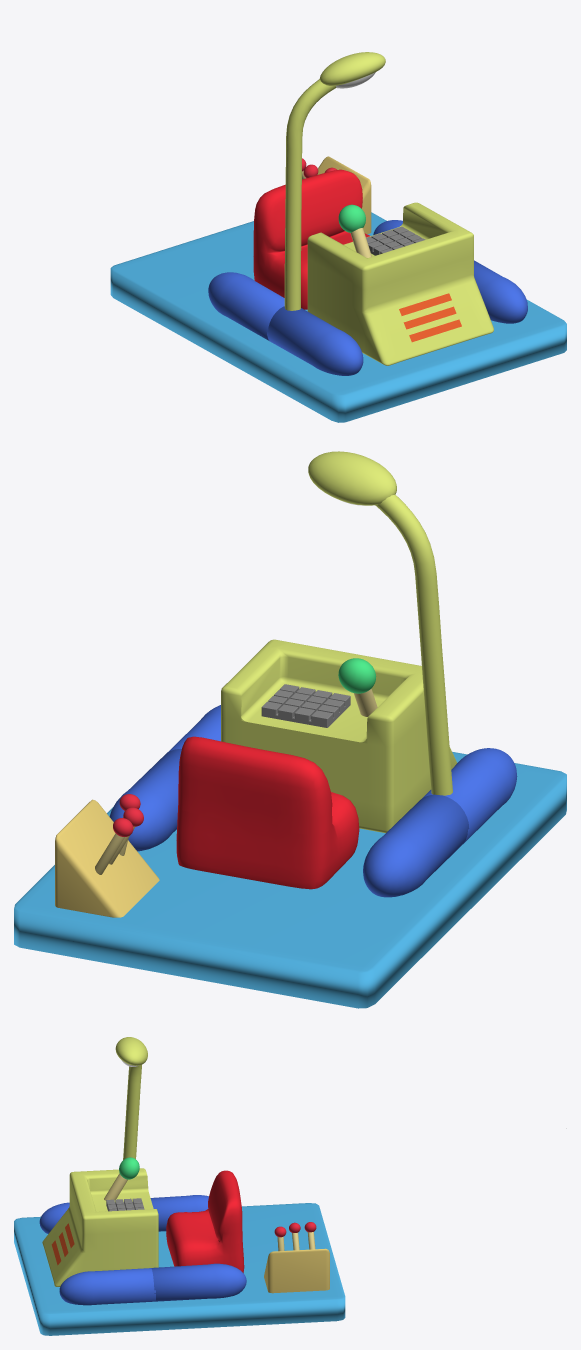
3 renders of one model, top to bottom at view 1: azimuth 30°, elevation 25°; view 2: azimuth 150°, elevation 25°; view 3: azimuth 270°, elevation 25°, orthographic. The views are drawn at different scales.
Visible parts, largest first — view 1: Cube, Cube.012, Sphere.132, Cube.025, BezierCurve.014, Sphere.133, Sphere.138, Cube.024, Cube.028, Sphere.134; view 2: Cube, Cube.012, Cube.025, Sphere.132, Cube.028, BezierCurve.014, Sphere.133, Sphere.138, Cube.024, Sphere.134; view 3: Cube, Cube.012, Sphere.133, Cube.025, Cube.028, Sphere.132, BezierCurve.014, Sphere.138, Cube.024.
Boxes of the visible parts, box(x1,y1,x2,y2) form: Cube: box(110, 212, 566, 422); Cube.012: box(307, 202, 493, 365); Sphere.132: box(208, 272, 363, 375); Cube.025: box(253, 169, 370, 309); BezierCurve.014: box(284, 79, 336, 310); Sphere.133: box(373, 220, 527, 323); Sphere.138: box(319, 52, 385, 88); Cube.024: box(366, 226, 425, 255); Cube.028: box(317, 156, 371, 234); Sphere.134: box(338, 204, 365, 232); Cube: box(14, 751, 566, 1008); Cube.012: box(221, 639, 456, 833); Cube.025: box(176, 736, 359, 889); Sphere.132: box(363, 748, 517, 897); Cube.028: box(55, 799, 159, 917); BezierCurve.014: box(375, 494, 452, 795); Sphere.133: box(109, 705, 220, 851); Sphere.138: box(308, 451, 396, 505); Cube.024: box(261, 684, 350, 727); Sphere.134: box(338, 658, 376, 693); Cube: box(14, 1203, 345, 1335); Cube.012: box(42, 1168, 158, 1286); Sphere.133: box(59, 1263, 246, 1305); Cube.025: box(166, 1170, 244, 1272); Cube.028: box(264, 1248, 329, 1293); Sphere.132: box(39, 1195, 208, 1233); BezierCurve.014: box(123, 1065, 141, 1159); Sphere.138: box(115, 1037, 147, 1066); Cube.024: box(106, 1198, 144, 1211).
Size of the model in its own units: 6.88 by 6.71 by 14.37.
